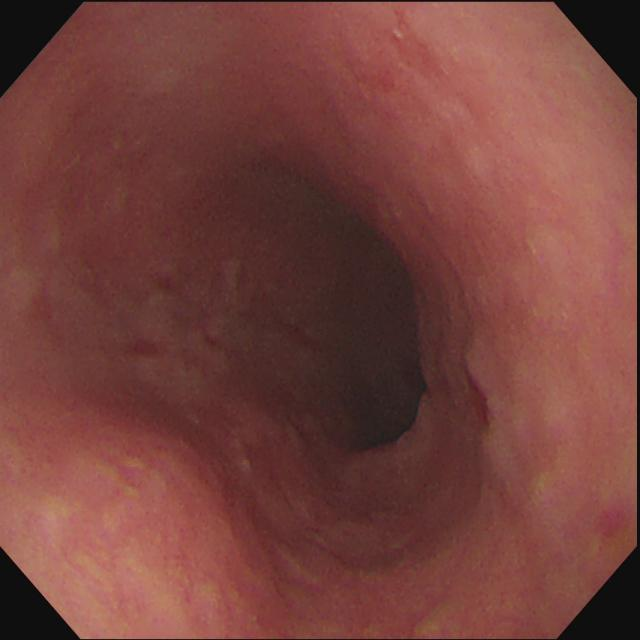A: (57, 401, 293, 588)
E: (277, 207, 447, 471)
